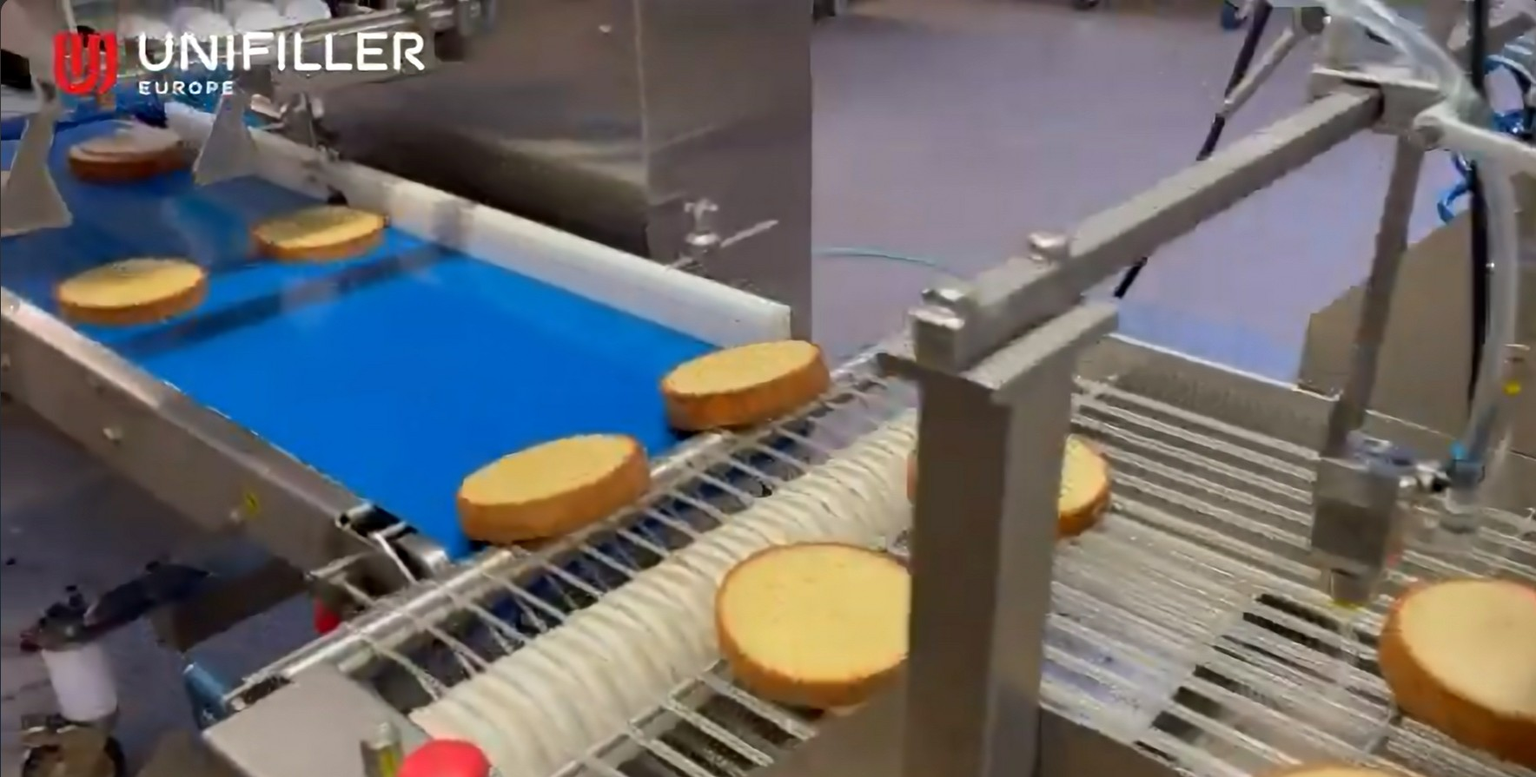Sponge Cake: (716, 544, 923, 706), (1380, 564, 1536, 766), (459, 433, 649, 545), (661, 339, 830, 432), (50, 252, 209, 323), (256, 201, 382, 261), (1055, 434, 1121, 528)
Whipped Cream: (65, 133, 188, 186)
